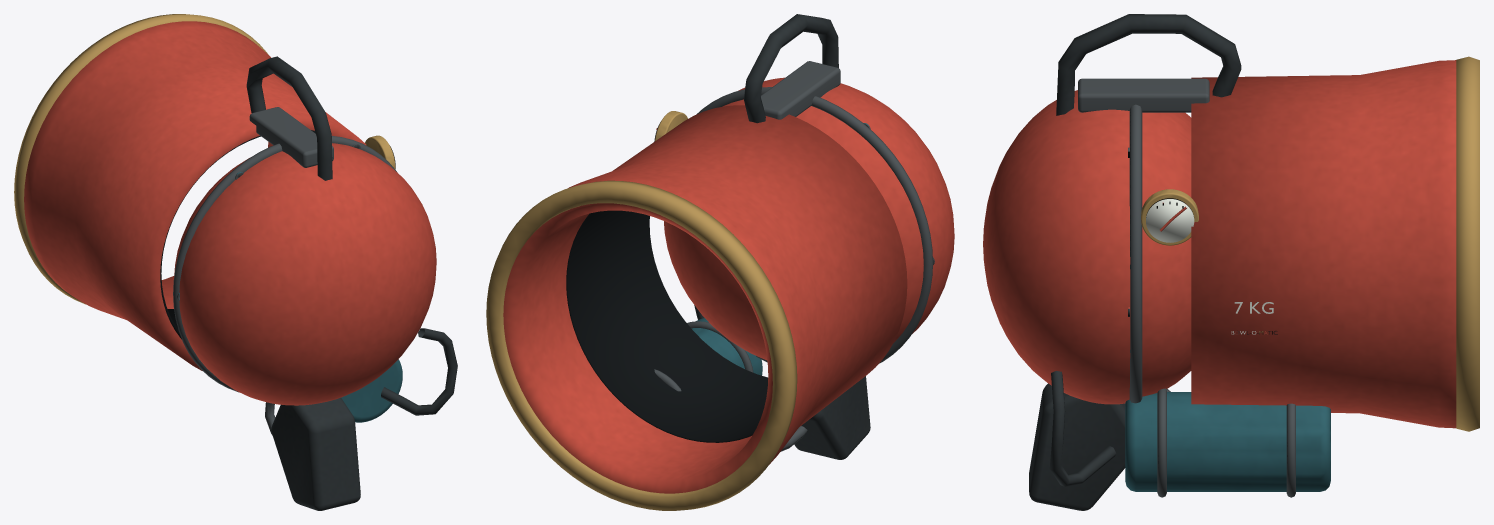
File: ball-cannon.glb
3 renders of one model, left to right at view 1: azimuth 30°, elevation 25°; view 2: azimuth 150°, elevation 25°; view 3: azimuth 270°, elevation 25°, orthographic. The views are drawn at different scales.
Parts seen in each view (by area): view 1: ball-cannon; view 2: ball-cannon; view 3: ball-cannon.
Part boxes in pixels (<box>): ball-cannon: <box>14,14,457,510</box>; ball-cannon: <box>486,14,954,510</box>; ball-cannon: <box>983,14,1479,510</box>.
Size of the model in its own units: 0.712 by 1.01 by 0.943.
Materials: 7 (7 with a texture image).
